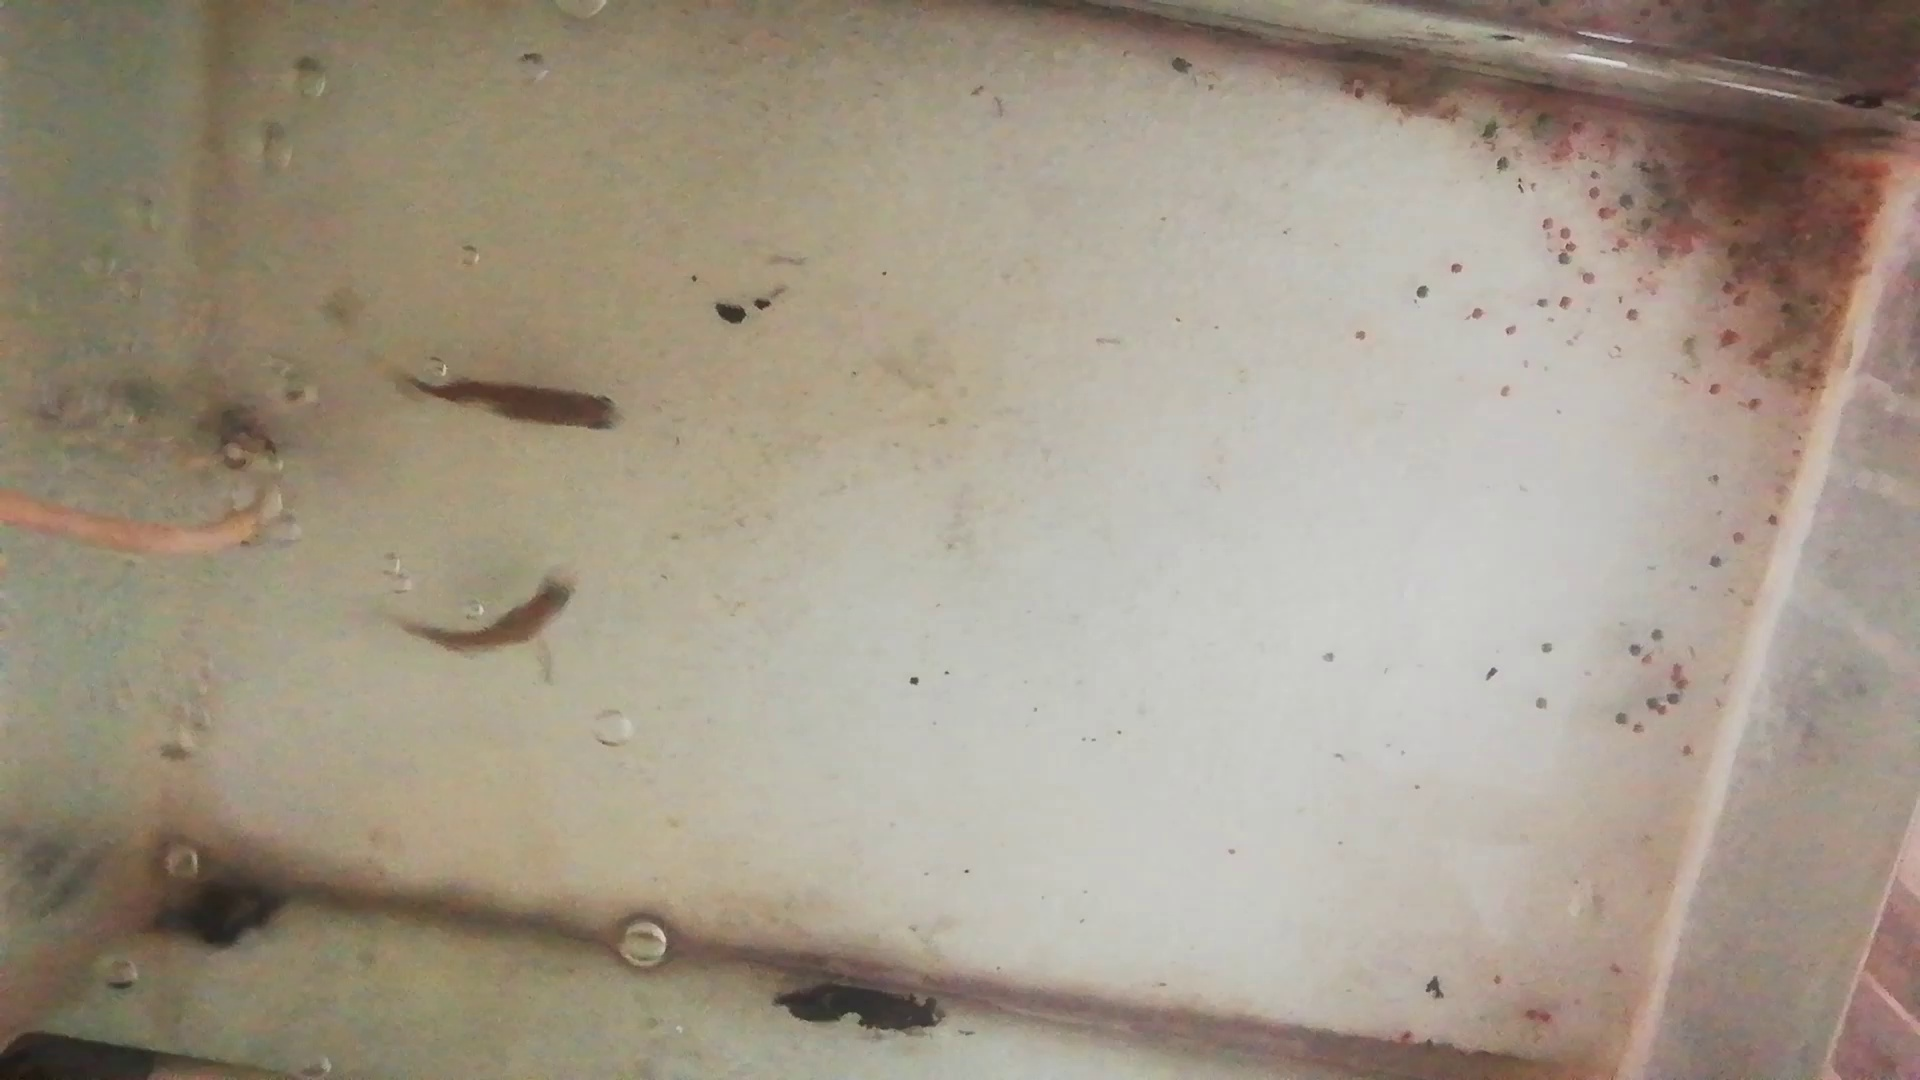fish: (396, 568, 582, 651), (407, 378, 624, 436)
